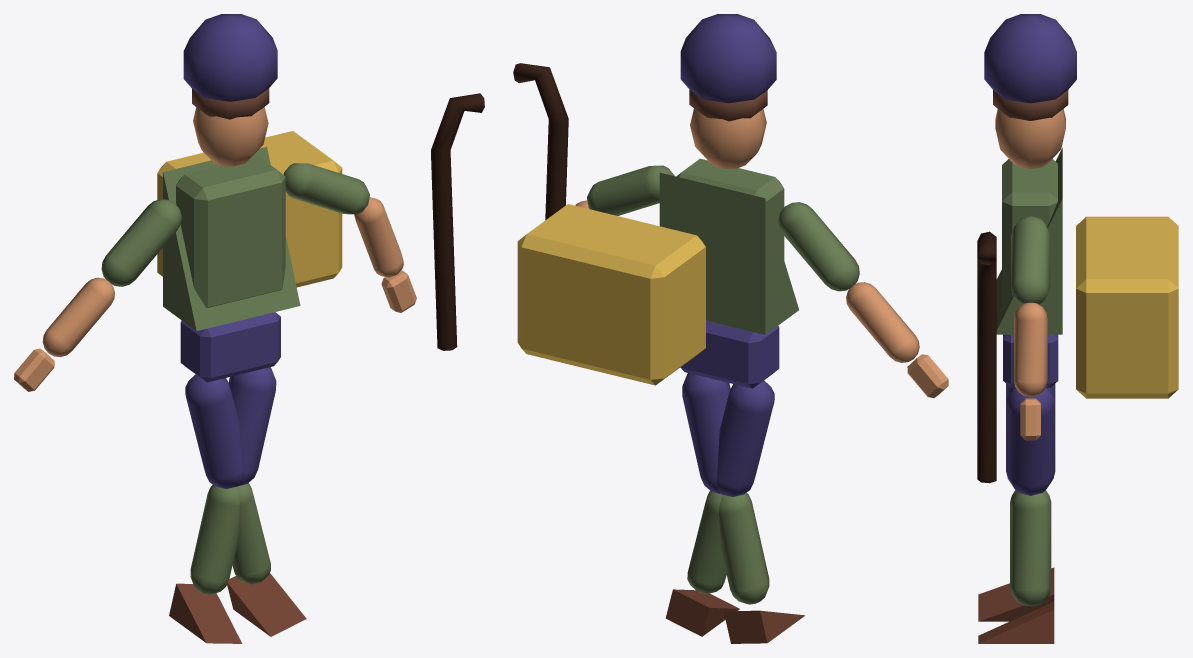
File: adventurer.rustic.glb
The picture shows the model from 3 angles, left to right: view 1: azimuth 30°, elevation 25°; view 2: azimuth 150°, elevation 25°; view 3: azimuth 270°, elevation 25°; orthographic projection.
Visible parts, largest first — view 1: torso, accessory.back, accessory.head, tunic, accessory.main-hand, pelvis, thigh.left, shin.right, upper-arm.left, thigh.right, head, upper-arm.right (+8 smaller); view 2: accessory.back, tunic, accessory.head, thigh.left, pelvis, shin.right, upper-arm.left, thigh.right, accessory.main-hand, head, forearm.left, upper-arm.right (+6 smaller); view 3: accessory.back, accessory.head, accessory.main-hand, shin.left, thigh.right, torso, upper-arm.right, head, forearm.right, tunic, foot.left, foot.right (+3 smaller).
Part boxes in pixels (x1=…): torso: x1=176, y1=156, x2=285, y2=307; accessory.back: x1=157, y1=131, x2=342, y2=287; accessory.head: x1=183, y1=14, x2=277, y2=101; tunic: x1=163, y1=147, x2=300, y2=330; accessory.main-hand: x1=431, y1=93, x2=484, y2=350; pelvis: x1=180, y1=312, x2=280, y2=382; thigh.left: x1=185, y1=374, x2=241, y2=488; shin.right: x1=190, y1=485, x2=239, y2=594; upper-arm.left: x1=101, y1=199, x2=181, y2=286; thigh.right: x1=228, y1=367, x2=276, y2=486; head: x1=193, y1=107, x2=268, y2=166; upper-arm.right: x1=283, y1=163, x2=369, y2=214; accessory.back: x1=517, y1=204, x2=705, y2=385; tunic: x1=659, y1=172, x2=798, y2=334; accessory.head: x1=680, y1=14, x2=776, y2=103; thigh.left: x1=717, y1=380, x2=774, y2=496; pelvis: x1=680, y1=320, x2=779, y2=388; shin.right: x1=719, y1=492, x2=769, y2=604; upper-arm.left: x1=778, y1=202, x2=859, y2=291; thigh.right: x1=682, y1=373, x2=730, y2=494; accessory.main-hand: x1=513, y1=63, x2=568, y2=219; head: x1=690, y1=108, x2=766, y2=168; forearm.left: x1=846, y1=282, x2=919, y2=362; upper-arm.right: x1=587, y1=165, x2=674, y2=215; accessory.back: x1=1076, y1=216, x2=1178, y2=398; accessory.head: x1=984, y1=14, x2=1076, y2=103; accessory.main-hand: x1=977, y1=231, x2=996, y2=483; shin.left: x1=1010, y1=491, x2=1051, y2=606; thigh.right: x1=1006, y1=388, x2=1055, y2=495; torso: x1=1002, y1=159, x2=1057, y2=310; upper-arm.right: x1=1011, y1=216, x2=1050, y2=304; head: x1=995, y1=109, x2=1065, y2=168; forearm.right: x1=1014, y1=302, x2=1047, y2=397; tunic: x1=996, y1=148, x2=1062, y2=334; foot.left: x1=978, y1=601, x2=1054, y2=643; foot.right: x1=978, y1=567, x2=1054, y2=621.
Size of the model in its own units: 2.52 by 3.28 by 0.98.
